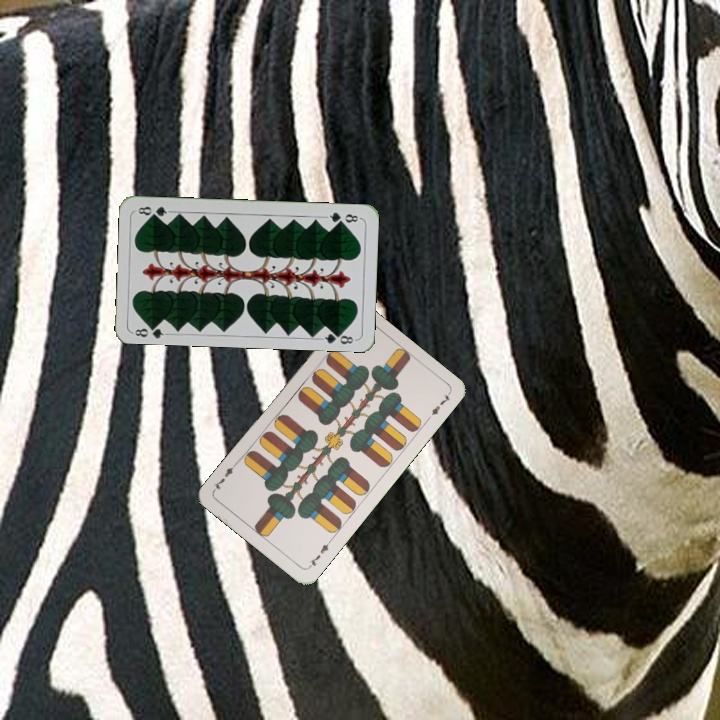E7: (304, 536, 334, 571)
G8: (129, 320, 170, 340), (322, 208, 363, 226)
